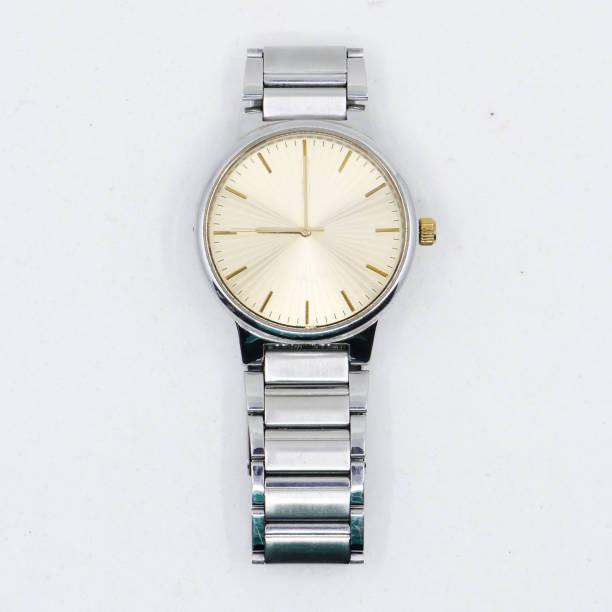clock: (203, 124, 410, 337)
